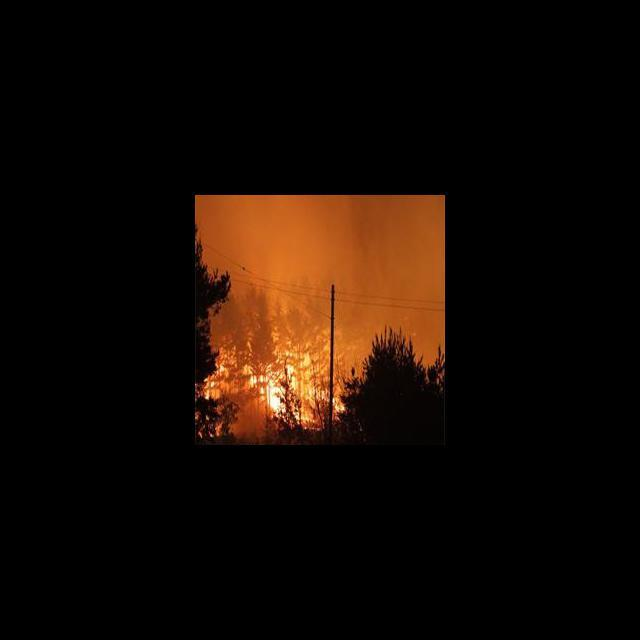Fire: (244, 331, 343, 425)
